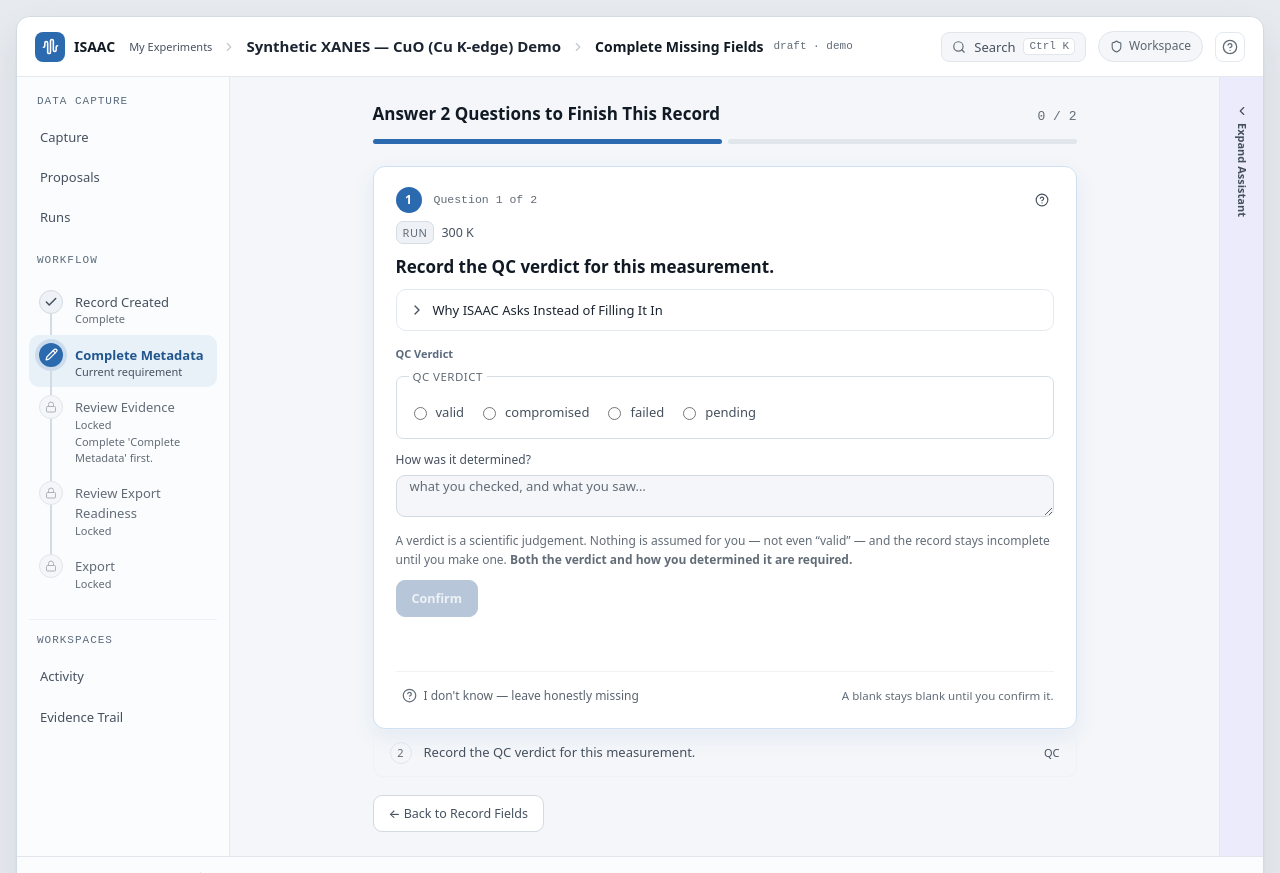
the completion screen with questions two different runs own › gives two simultaneously mounted QC prompts distinct radio, note and hint ids
Expected: the text "300 K" is shown, x1=441 y1=224 x2=474 y2=241
Click the radio button labelled "valid".
click(420, 413)  # box x1=414 y1=407 x2=426 y2=420
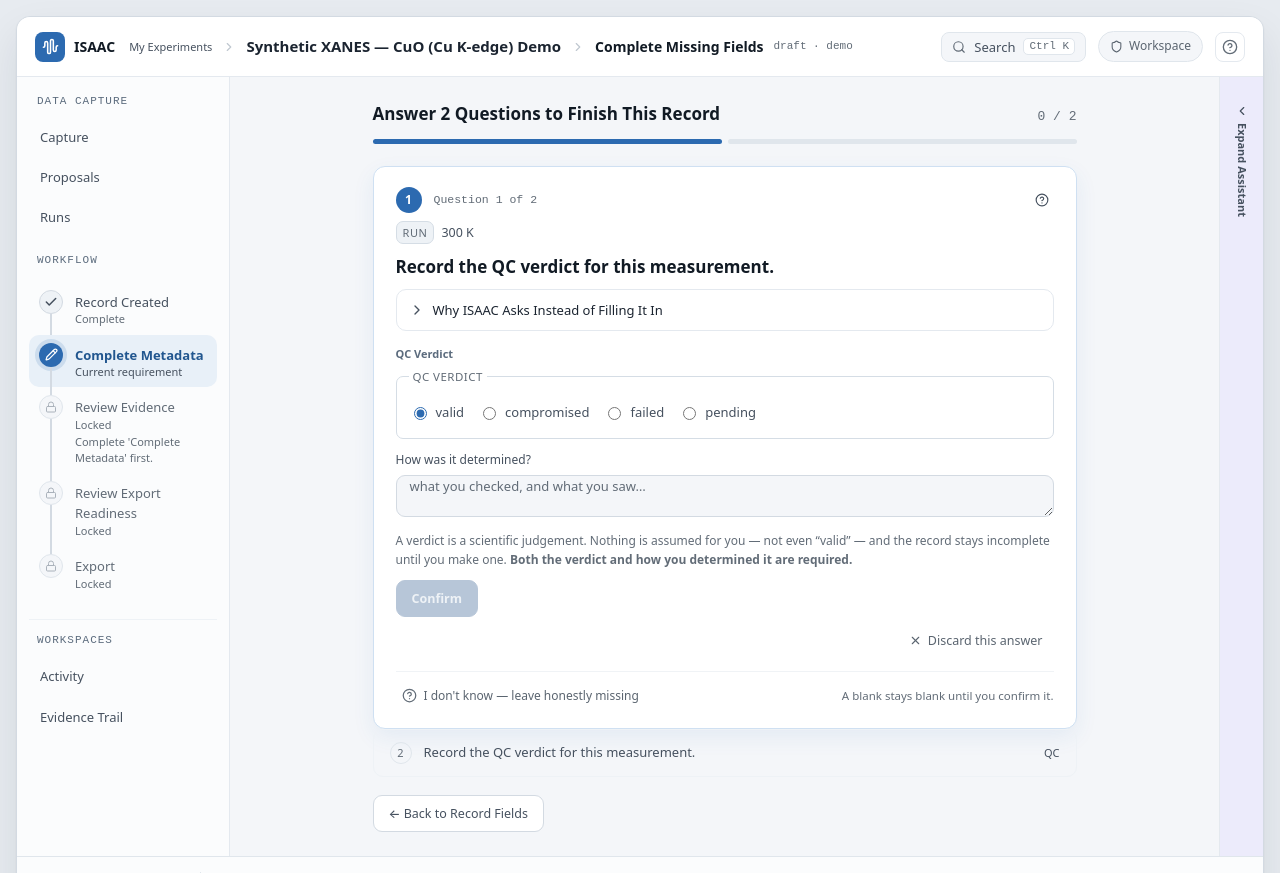
Type "looks clean" into the text box labelled "How was it determined?".
click(724, 496); type("looks clean")  # box x1=396 y1=475 x2=1054 y2=517
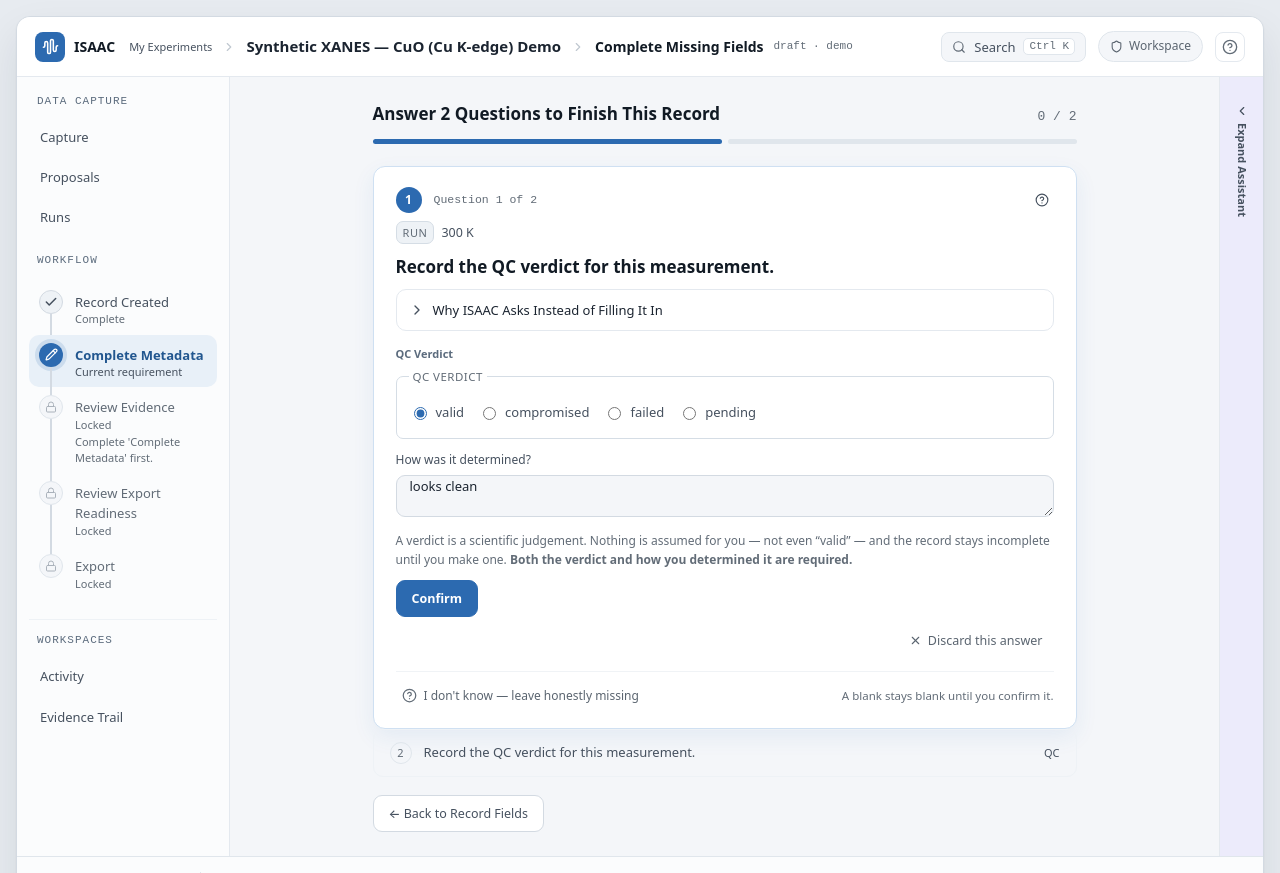
Click the button "Confirm".
click(437, 598)  # box x1=396 y1=580 x2=478 y2=616
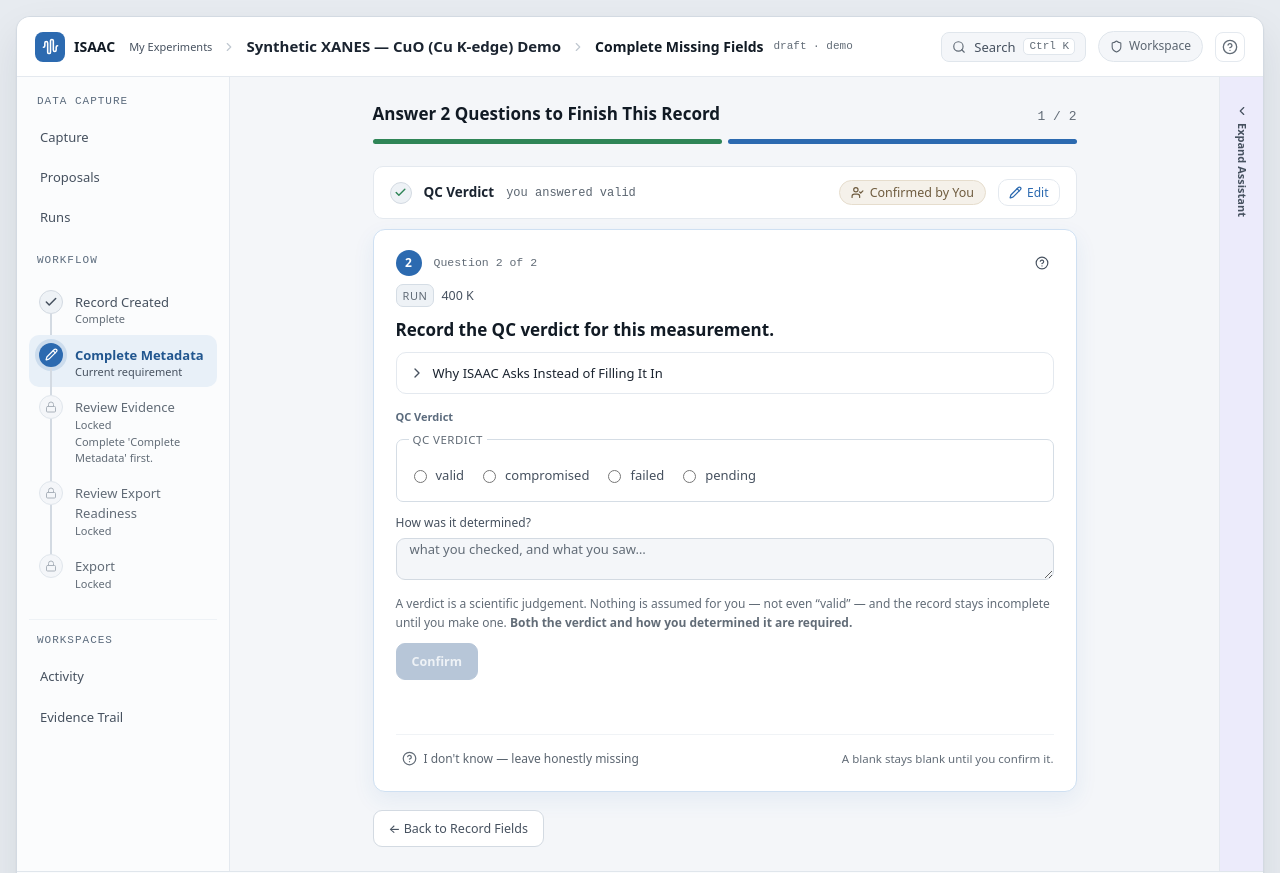
Result: the text "you answered valid" is shown at x1=506 y1=184 x2=636 y2=202
Click the button "Edit".
click(1029, 193)  # box x1=998 y1=179 x2=1060 y2=206
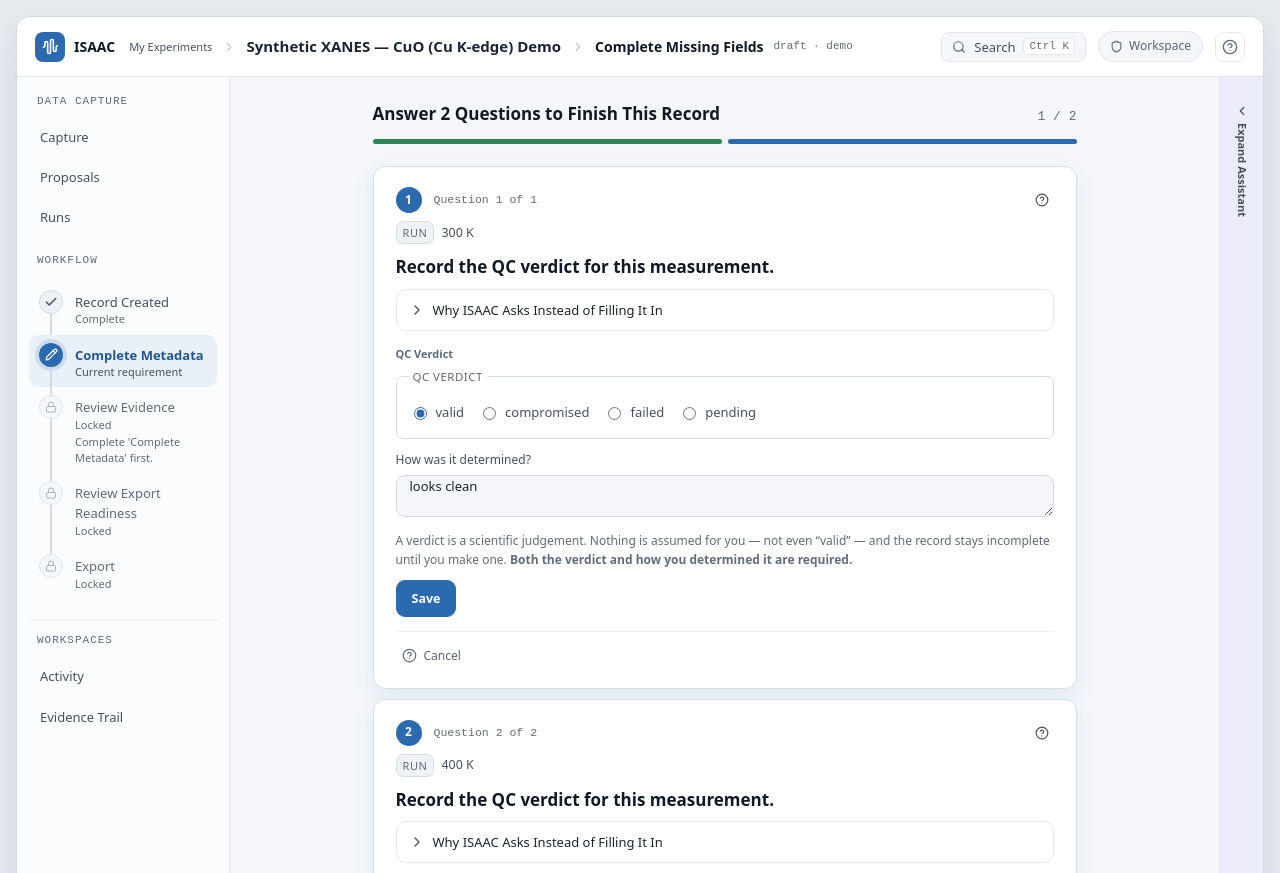
Result: the number of radio buttons labelled "valid" is 2
Result: the number of text boxes labelled "How was it determined?" is 2
